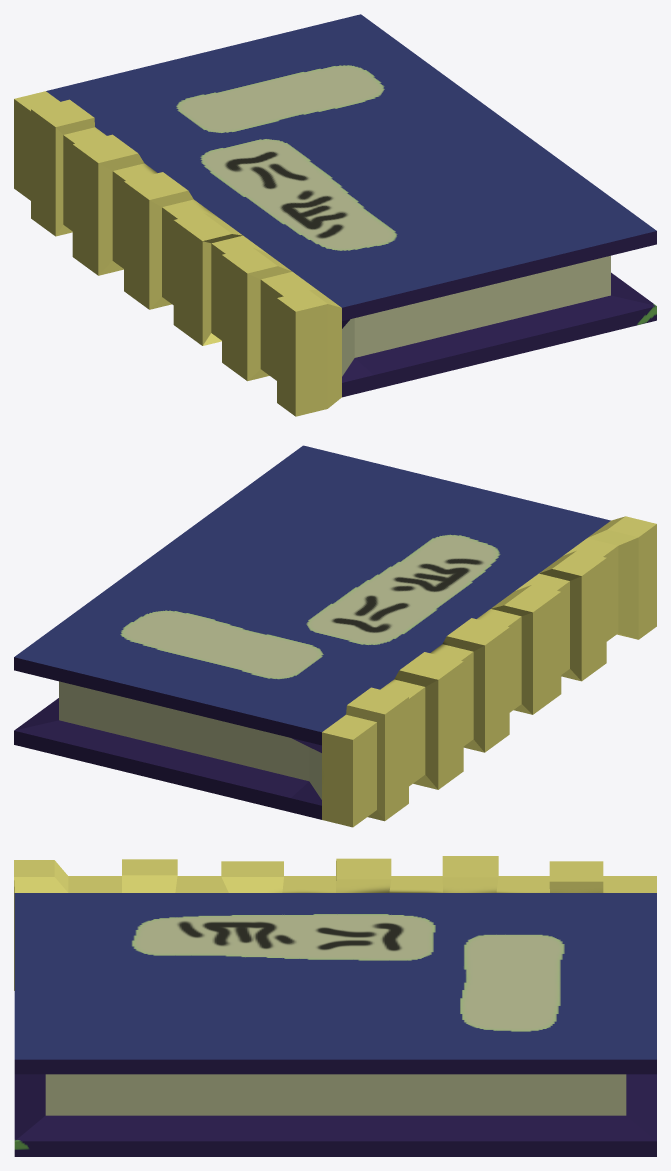
The model's file is caderno 1.fbx.
3 views of the same model, one above another, from view 1: azimuth 30°, elevation 25°; view 2: azimuth 150°, elevation 25°; view 3: azimuth 270°, elevation 25° (orthographic). The views are drawn at different scales.
Parts seen in each view (by area): view 1: Cube; view 2: Cube; view 3: Cube.
Boxes of the visible parts, box(x1,y1,x2,y2) form: Cube: box(14, 14, 656, 416); Cube: box(14, 445, 656, 827); Cube: box(14, 856, 656, 1156).
Size of the model in its own units: 141 by 42 by 200.
1 material, 1 textured.
